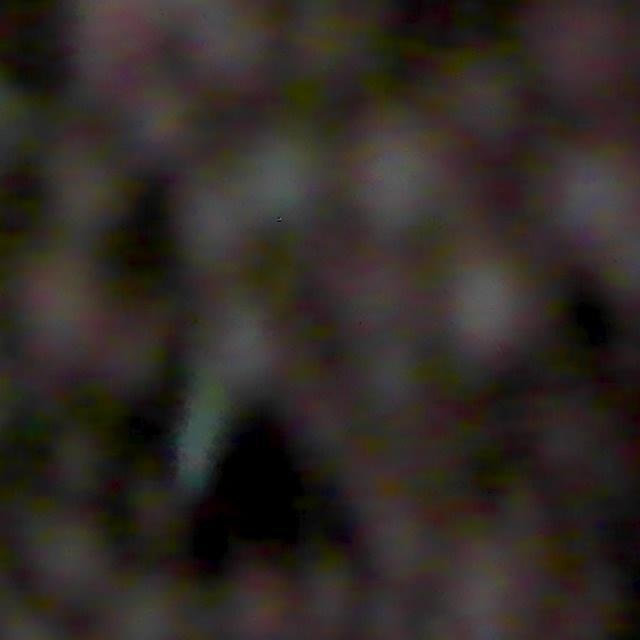SeaGrape: (25, 253, 158, 401), (431, 239, 559, 370), (349, 113, 458, 234), (544, 0, 640, 120), (58, 0, 172, 92), (544, 135, 640, 242), (21, 512, 110, 619), (240, 130, 328, 219), (204, 567, 297, 640), (90, 575, 188, 640), (295, 563, 362, 640)
